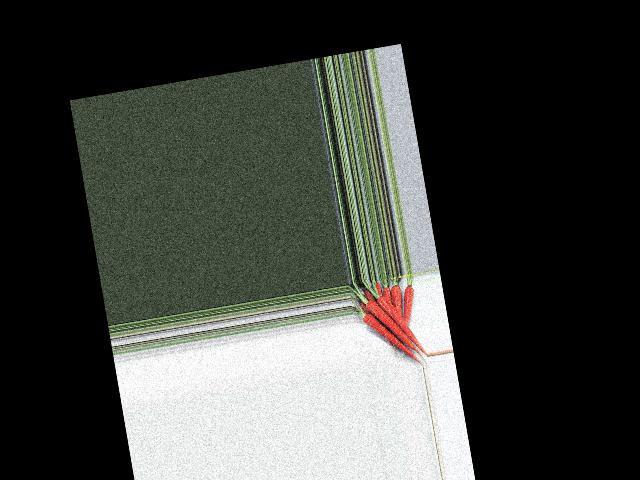carrot: (396, 284, 421, 327)
